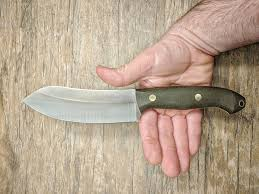knife: (20, 86, 247, 124)
